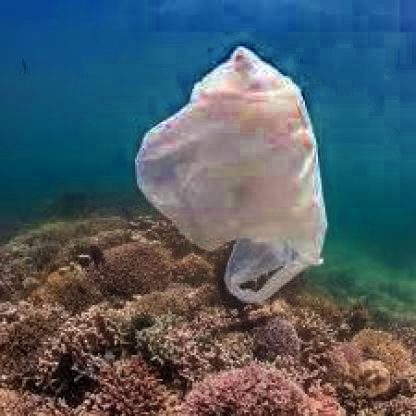pbag: (133, 44, 329, 304)
